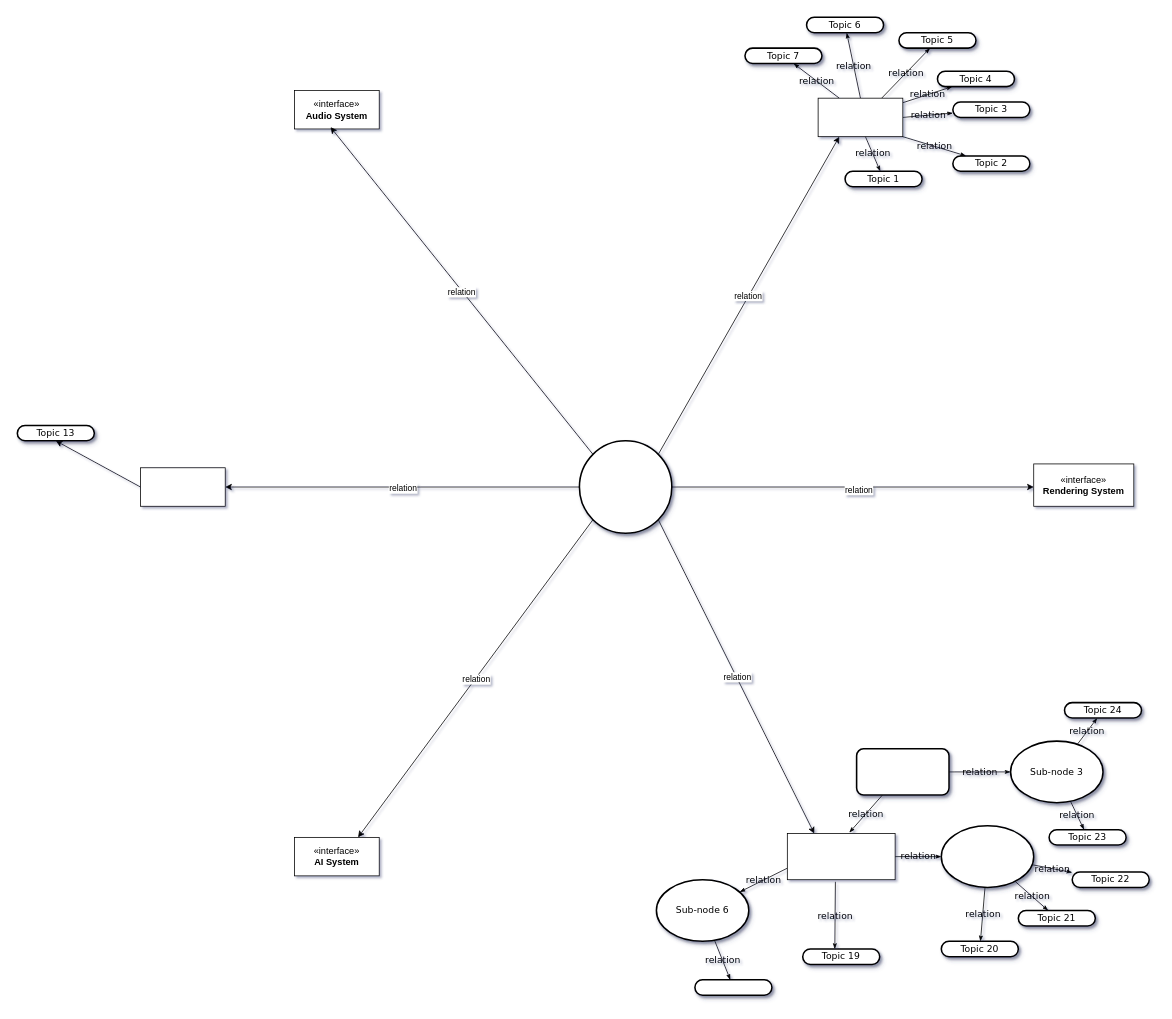
This 1172x1019 diagram has some shape labels left out. The shapes that lost their labels are listed below. From the top down, each one's centre as x and y in pixels, then its label:
At pixel 860 117: "«interface» Physics System".
At pixel 182 486: "«interface» Input System".
At pixel 626 488: "Game Engine".
At pixel 903 773: "Process 1".
At pixel 841 856: "«interface» Memory Management System".
At pixel 988 857: "Sub-node 4".
At pixel 734 988: "Topic 18".
